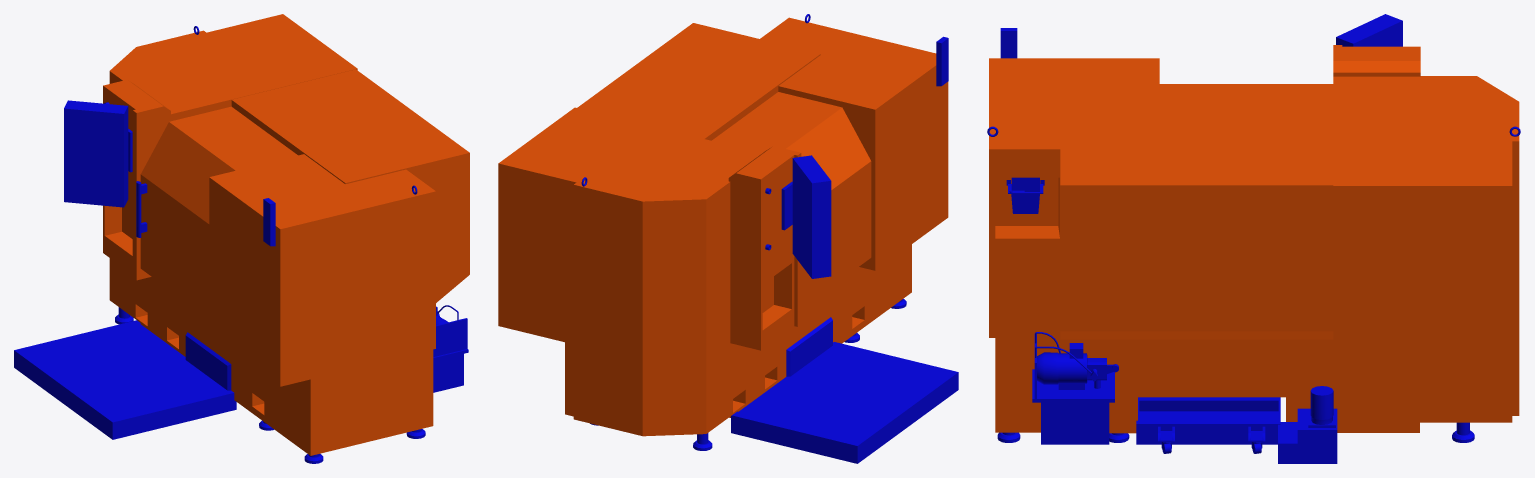
3 renders of one model, left to right at view 1: azimuth 30°, elevation 25°; view 2: azimuth 150°, elevation 25°; view 3: azimuth 270°, elevation 25°, orthographic. The views are drawn at different scales.
Parts seen in each view (by area): view 1: T1_4; view 2: T1_4; view 3: T1_4.
Part boxes in pixels (x1=…): T1_4: x1=14, y1=14, x2=469, y2=463; T1_4: x1=498, y1=14, x2=958, y2=463; T1_4: x1=987, y1=14, x2=1520, y2=463.
Size of the model in its own units: 4.6 by 3.82 by 5.72.
